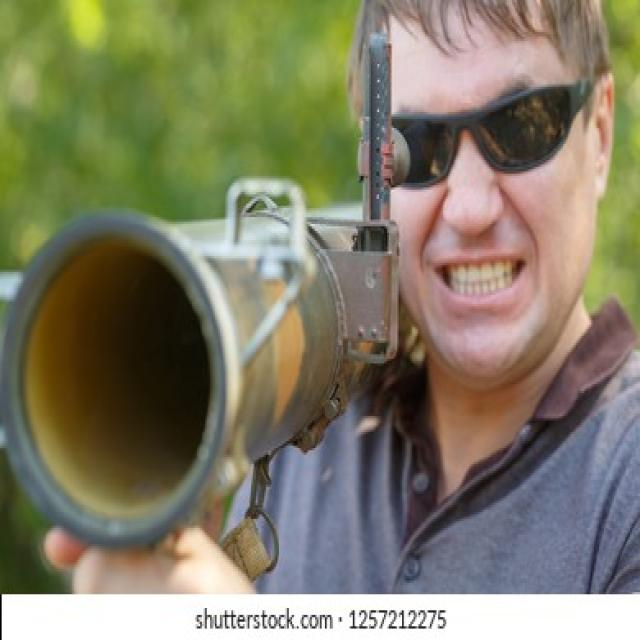bazooka: (7, 149, 425, 582)
